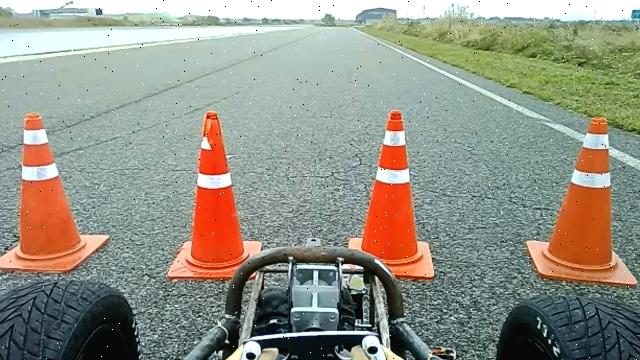red cone: (526, 115, 638, 287), (0, 111, 111, 274), (166, 110, 262, 281), (347, 108, 436, 280)
